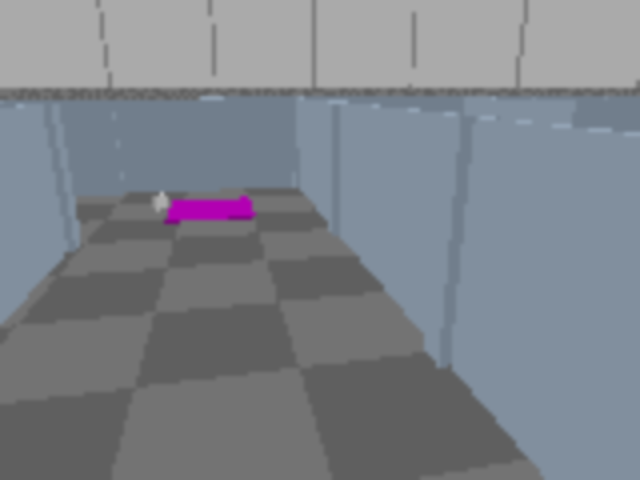goal_zone: (165, 198, 256, 223)
puck: (151, 194, 168, 210)
